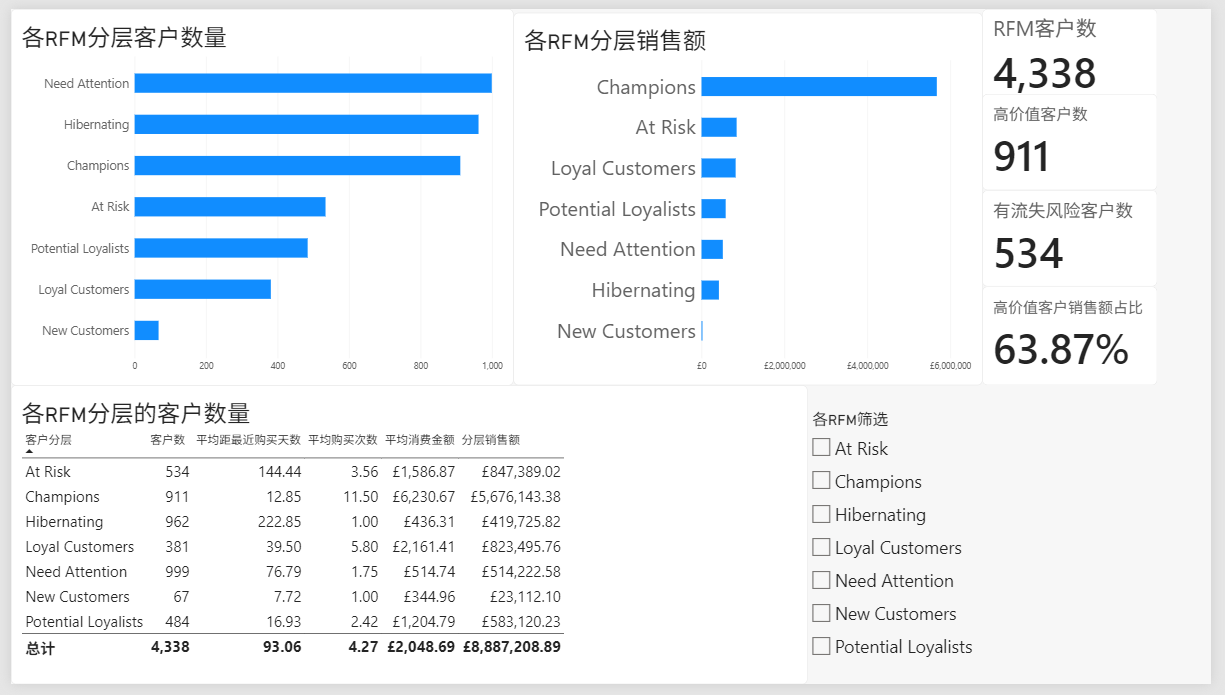

What the dashboard file says about the page in this screenshot:
{"tool":"powerbi","page":{"name":"03 客户分层","canvas":[1920,1080],"ordinal":2},"visuals":[{"type":"cardVisual","fields":{"Data":["customer_rfm.RFM Customers"]},"box":[1554,0,280,150],"z":0},{"type":"cardVisual","fields":{"Data":["customer_rfm.Champion Customers"]},"box":[1554,136,280,154],"z":1000},{"type":"cardVisual","fields":{"Data":["customer_rfm.At Risk Customers"]},"box":[1554,290,280,154],"z":2000},{"type":"cardVisual","fields":{"Data":["customer_rfm.Champion Sales Share"]},"box":[1554,444,280,158],"z":3000},{"type":"barChart","fields":{"Category":["customer_rfm.Segment"],"Y":["customer_rfm.RFM Customers"]},"box":[0,0,804,602],"z":4000},{"type":"barChart","fields":{"Category":["customer_rfm.Segment"],"Y":["customer_rfm.RFM Sales Amount"]},"box":[804,6,750,596],"z":5000},{"type":"slicer","fields":{"Values":["customer_rfm.Segment"]},"box":[1274,602,560,458],"z":6000},{"type":"tableEx","fields":{"Values":["customer_rfm.Segment","customer_rfm.RFM Customers","customer_rfm.Average Recency","customer_rfm.Average Frequency","customer_rfm.Average Monetary","customer_rfm.RFM Sales Amount"]},"box":[0,602,1274,478],"z":7000}]}

Visuals, with their boxes in screenshot pixels (x1, y1, x2, y2), scaled from the page's 1920x1080 canvas onto the 1225x695 screenshot:
cardVisual - customer_rfm.RFM Customers: region(991, 0, 1170, 97)
cardVisual - customer_rfm.Champion Customers: region(991, 88, 1170, 187)
cardVisual - customer_rfm.At Risk Customers: region(991, 187, 1170, 286)
cardVisual - customer_rfm.Champion Sales Share: region(991, 286, 1170, 387)
barChart - customer_rfm.Segment x customer_rfm.RFM Customers: region(0, 0, 513, 387)
barChart - customer_rfm.Segment x customer_rfm.RFM Sales Amount: region(513, 4, 991, 387)
slicer - customer_rfm.Segment: region(813, 387, 1170, 682)
tableEx - customer_rfm.Segment x customer_rfm.RFM Customers: region(0, 387, 813, 694)
